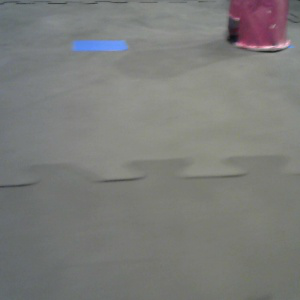Right: (228, 1, 290, 52)
